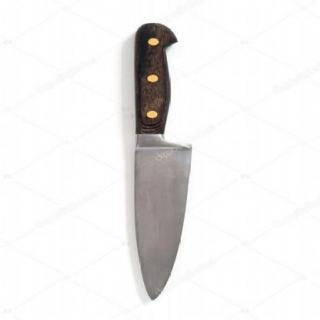knife: (82, 137, 236, 307)
